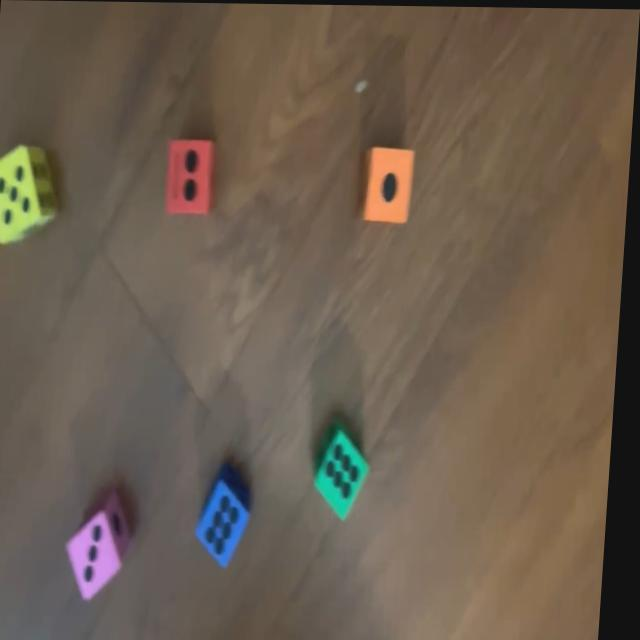cube: (315, 415, 380, 522), (198, 463, 261, 570), (168, 134, 223, 213)
